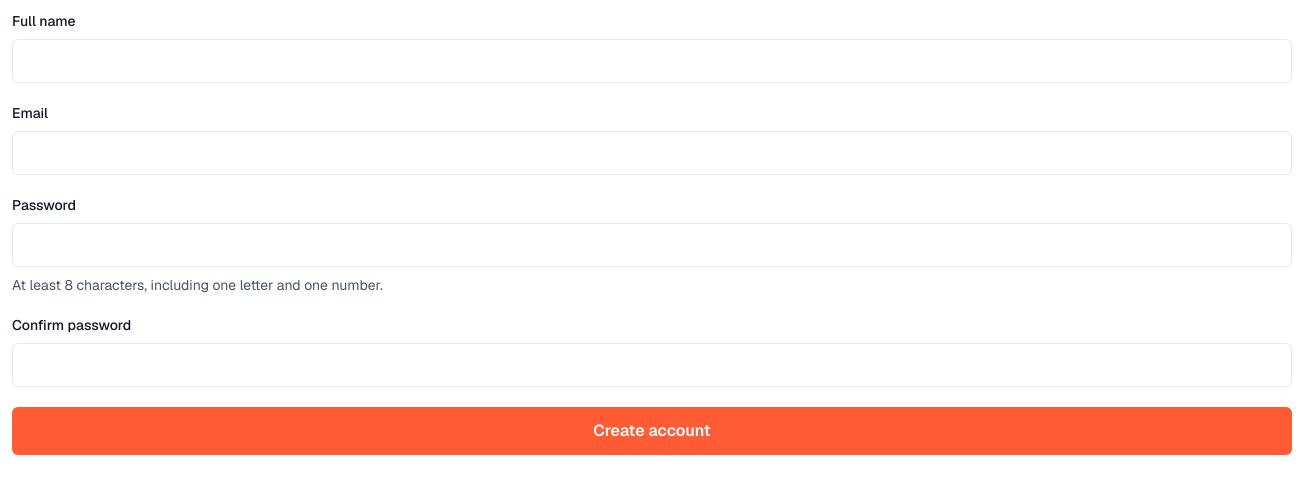
Scenario: RegisterForm › renders a mismatched confirmation beneath the confirmation input
This screenshot has width=1304, height=500.
Click the button "Create account" at (652, 431), box [12, 407, 1292, 455]
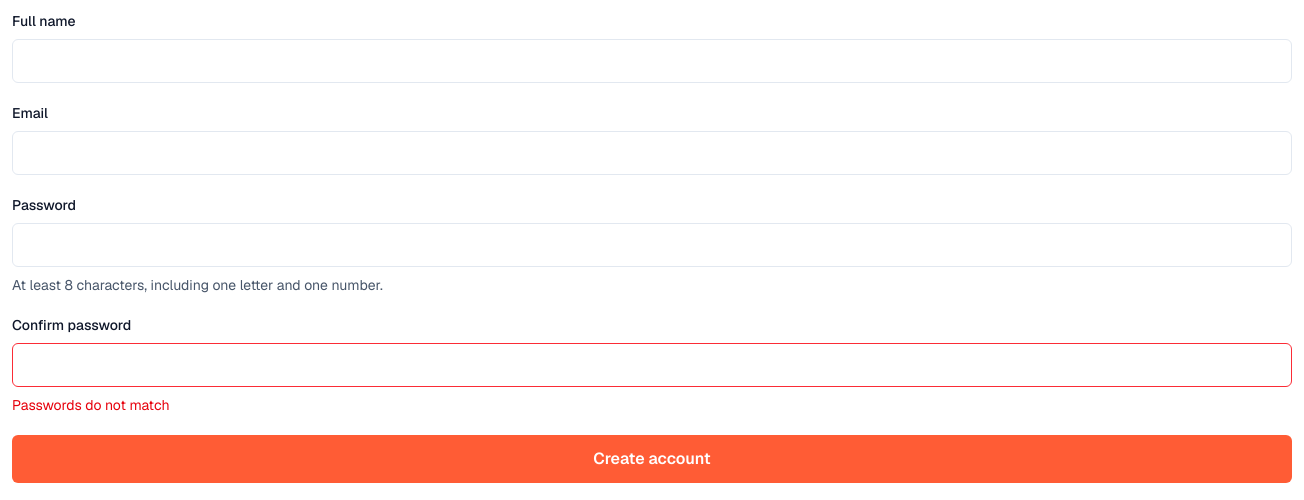
Check: the list item "Passwords do not match" is shown, box [12, 396, 170, 414]
